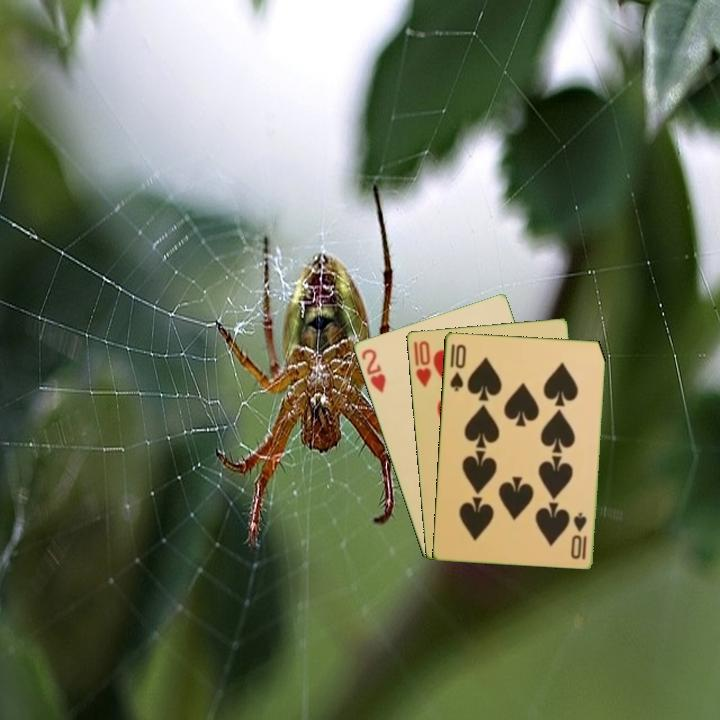10h: (410, 337, 434, 389)
10s: (446, 341, 469, 394), (567, 509, 589, 562)
2h: (358, 345, 388, 395)
